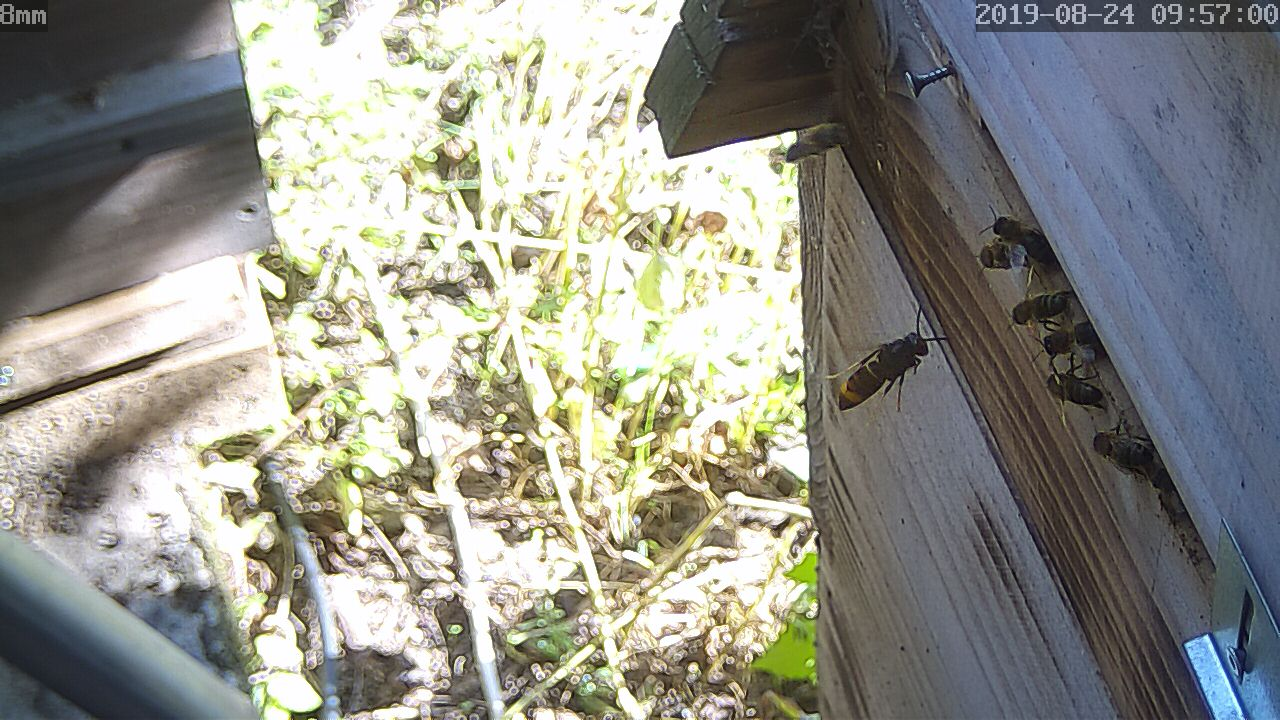bee: (1001, 282, 1088, 329), (1080, 427, 1152, 482), (987, 211, 1061, 260), (1033, 316, 1100, 363), (1039, 371, 1106, 417)
hornet: (826, 313, 942, 421)
